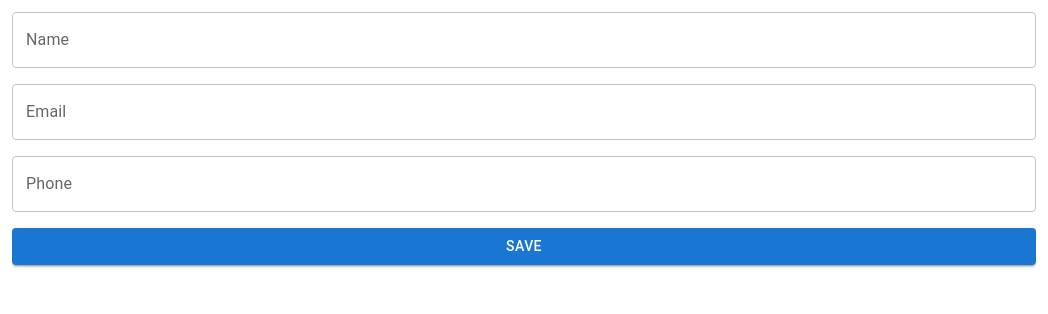
Scenario: ClientForm › shows an error and blocks submit for an invalid email
Type "Acme Farms" into the field labelled "Name" at (524, 40), box 12,12 -> 1036,68
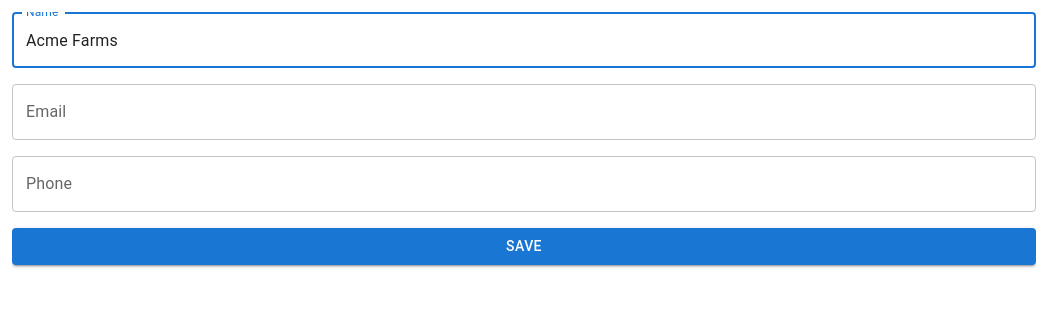
Type "a" into the field labelled "Email" at (524, 112), box 12,84 -> 1036,140
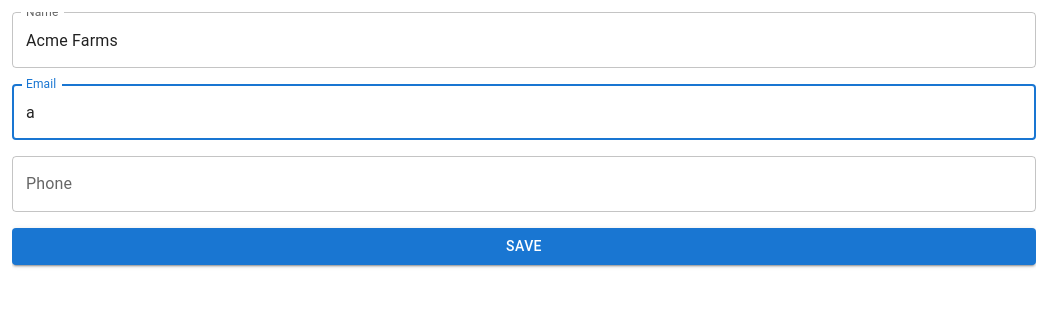
Click the button "Save" at (524, 246), box 12,228 -> 1036,264
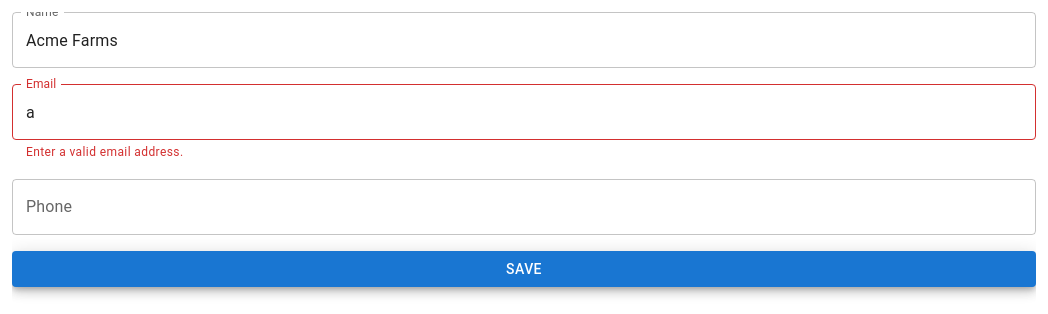
Expected: the text "Enter a valid email address." is shown, 26,145 -> 184,159
